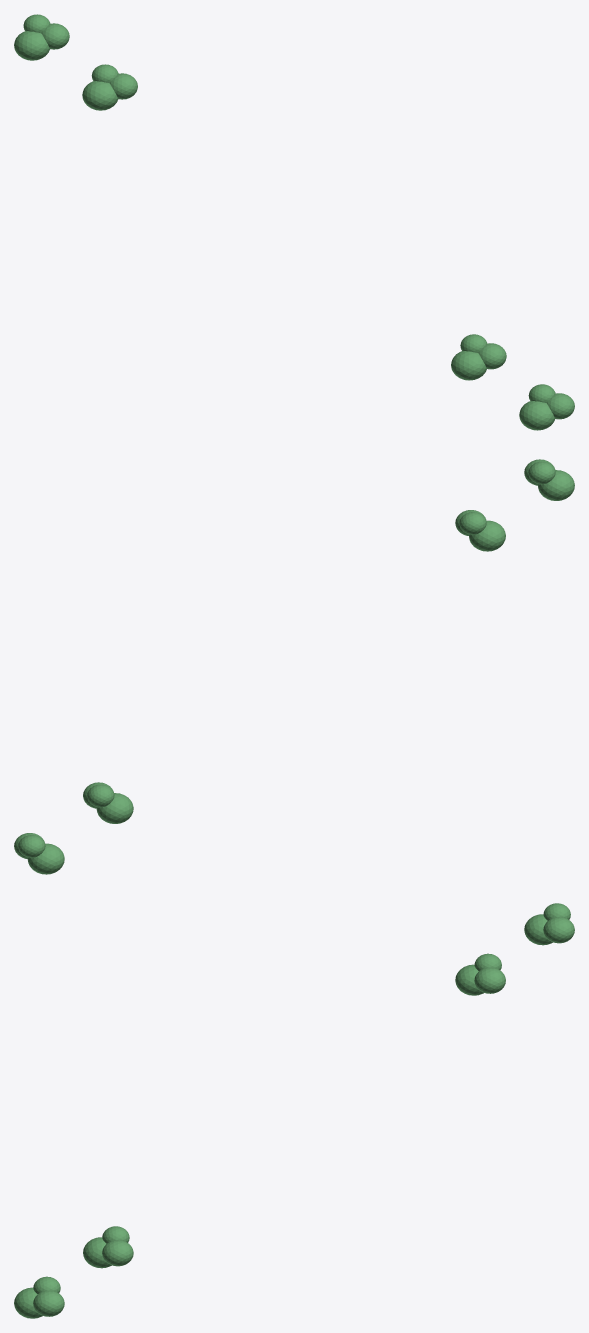
File: foliage.glb
3 renders of one model, top to bottom at view 1: azimuth 30°, elevation 25°; view 2: azimuth 150°, elevation 25°; view 3: azimuth 330°, elevation 25°, orthographic.
Visible parts, largest first — view 1: geometry_0; view 2: geometry_0; view 3: geometry_0.
Boxes of the visible parts, x1,y1,x2,y2 form: geometry_0: [14, 14, 574, 430]; geometry_0: [14, 459, 574, 874]; geometry_0: [14, 903, 574, 1318].
Bounding box in the file's own units: 4.1 × 2.98 × 77.25.
